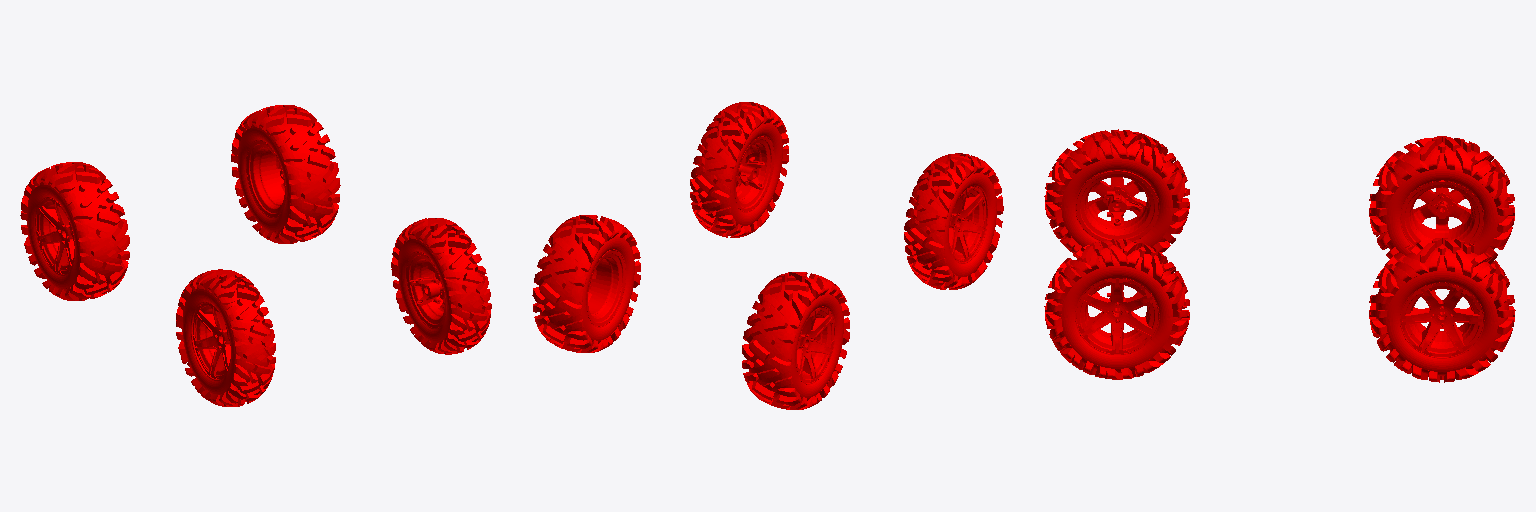
URDF robot description (basic_frame_pig):
<?xml version="1.0"?>
<robot name="basic_frame_pig">

    <!-- Base Link / Tube Chasis-->
    <link name="base_link">
        <inertial>
            <origin rpy="0 0 0" xyz="-0.005632841369081588 0.2917022138225285 -0.004107516953549188"/>
            <mass value="61.719091558990335"/>
            <inertia ixx="23.451972" ixy="-0.091403" ixz="-0.110297" iyy="6.432858" iyz="1.415813" izz="26.484945"/>
        </inertial>
        <visual>
            <origin rpy="0 0 0" xyz="0 0 0"/>
            <geometry>
                <mesh filename="package://little_pig_atv/urdf/bin_stl/base_link_m-binary.stl"/>
            </geometry>
            <material name="silver">
                <color rgba="1 0 0 1"/>
            </material>
        </visual>
        <collision>
            <origin rpy="0 0 0" xyz="0 0 0"/>
            <geometry>
                <mesh filename="package://little_pig_atv/urdf/bin_stl/base_link_m-binary.stl"/>
            </geometry>
        </collision>
    </link>

    <!-- Left Steering Knuckle -->
    <link name="left_steering_knuckle">
        <inertial>
            <origin rpy="0 0 0" xyz="0.04626374762862234 0.005213062909487198 0.06475119586205944"/>
            <mass value="2.3221244569381487"/>
            <inertia ixx="0.004736" ixy="0.000171" ixz="6.1e-05" iyy="0.003675" iyz="6e-06" izz="0.003101"/>
        </inertial>
        <visual>
            <origin rpy="0 0 0" xyz="-0.447222 0.622377 0.163596"/>
            <geometry>
                <mesh filename="package://little_pig_atv/urdf/bin_stl/left_steering_knuckle_m-binary.stl"/>
            </geometry>
            <material name="silver">
                <color rgba="1 0 0 1"/>
            </material>
        </visual>
        <collision>
            <origin rpy="0 0 0" xyz="-0.447222 0.622377 0.163596"/>
            <geometry>
                <mesh filename="package://little_pig_atv/urdf/bin_stl/left_steering_knuckle_m-binary.stl"/>
            </geometry>
        </collision>
    </link>

    <!-- Base Link - Left Steering Knuckle Joint -->
    <joint name="base_link_to_left_steering_knuckle" type="revolute">
        <origin rpy="0 0 0" xyz="0.447222 -0.622377 -0.163596"/>
        <parent link="base_link"/>
        <child link="left_steering_knuckle"/>
        <axis xyz="-0.000375 -0.0 0.009993"/>
        <limit lower="-0.5" upper="0.5" effort="1.0" velocity="1.0"/>
    </joint>

    <!-- Base Link - Left Steering Knuckle Transmission -->
    <transmission name="base_link_to_left_steering_knuckle_transmission">
        <type>transmission_interface/SimpleTransmission</type>
        <joint name="base_link_to_left_steering_knuckle">
            <hardwareInterface>PositionJointInterface</hardwareInterface>
        </joint>
        <actuator name="base_link_to_left_steering_knuckle_actr">
            <hardwareInterface>PositionJointInterface</hardwareInterface>
            <mechanicalReduction>1</mechanicalReduction>
        </actuator>
    </transmission>

    <!-- Front Left Wheel Hub -->
    <link name="front_left_wheel_hub">
        <inertial>
            <origin rpy="0 0 0" xyz="0.027160820485626624 1.743857634961543e-07 0.0010195880848413164"/>
            <mass value="1.118795265201953"/>
            <inertia ixx="0.001287" ixy="-0.0" ixz="1.1e-05" iyy="0.000986" iyz="0.0" izz="0.000987"/>
        </inertial>
        <visual>
            <origin rpy="0 0 0" xyz="-0.526843 0.622377 0.097593"/>
            <geometry>
                <mesh filename="package://little_pig_atv/urdf/bin_stl/front_left_wheel_hub_m-binary.stl"/>
            </geometry>
            <material name="silver">
                <color rgba="1 0 0 1"/>
            </material>
        </visual>
        <collision>
            <origin rpy="0 0 0" xyz="-0.526843 0.622377 0.097593"/>
            <geometry>
                <mesh filename="package://little_pig_atv/urdf/bin_stl/front_left_wheel_hub_m-binary.stl"/>
            </geometry>
        </collision>
    </link>

    <!-- Front Left Steering Knuckle to Front Left Wheel Hub Joint -->
    <joint name="front_left_steering_knuckle_front_left_wheel_hub" type="continuous">
        <origin rpy="0 0 0" xyz="0.079621 0.0 0.066003"/>
        <parent link="left_steering_knuckle"/>
        <child link="front_left_wheel_hub"/>
        <axis xyz="-0.009993 -0.0 -0.000375"/>
    </joint>

    <!-- Front Left Steering Knuckle to Front Left Wheel Hub Transmission -->
    <transmission name="front_left_steering_knuckle_front_left_wheel_hub_transmission">
        <type>transmission_interface/SimpleTransmission</type>
        <joint name="front_left_steering_knuckle_front_left_wheel_hub">
            <hardwareInterface>EffortJointInterface</hardwareInterface>
        </joint>
        <actuator name="front_left_steering_knuckle_front_left_wheel_hub_actr">
            <hardwareInterface>EffortJointInterface</hardwareInterface>
            <mechanicalReduction>1</mechanicalReduction>
        </actuator>
    </transmission>

    <!-- Front Left Wheel -->
    <link name="front_left_wheel">
        <inertial>
            <origin rpy="0 0 0" xyz="0.0011488911139707625 2.510309293879409e-06 3.8079092190917985e-05"/>
            <mass value="77.98350831979032"/>
            <inertia ixx="4.69787" ixy="-9e-06" ixz="0.077554" iyy="2.63247" iyz="-3e-05" izz="2.635399"/>
        </inertial>
        <visual>
            <origin rpy="0 0 0" xyz="-0.563887 0.622377 0.096202"/>
            <geometry>
                <mesh filename="package://little_pig_atv/urdf/bin_stl/front_left_wheel_m-binary.stl"/>
            </geometry>
            <material name="silver">
                <color rgba="1 0 0 1"/>
            </material>
        </visual>
        <collision>
            <origin rpy="0 0 0" xyz="-0.563887 0.622377 0.096202"/>
            <geometry>
                <mesh filename="package://little_pig_atv/urdf/bin_stl/front_left_wheel_m-binary.stl"/>
            </geometry>
        </collision>
    </link>

    <!-- Front Left Wheel Hub to Front Left Wheel Joint-->
    <joint name="front_left_wheel_hub_front_left_wheel" type="fixed">
        <origin rpy="0 0 0" xyz="0.037044 0.0 0.001391"/>
        <parent link="front_left_wheel_hub"/>
        <child link="front_left_wheel"/>
    </joint>

    <!-- Front Left Wheel Hub to Front Left Wheel Joint-->
    <transmission name="front_left_wheel_hub_front_left_wheel_transmission">
        <type>transmission_interface/SimpleTransmission</type>
        <joint name="front_left_wheel_hub_front_left_wheel">
            <hardwareInterface>PositionJointInterface</hardwareInterface>
        </joint>
        <actuator name="front_left_wheel_hub_front_left_wheel_actr">
            <hardwareInterface>PositionJointInterface</hardwareInterface>
            <mechanicalReduction>1</mechanicalReduction>
        </actuator>
    </transmission>

    <!-- Right Steering Knuckle -->
    <link name="right_steering_knuckle">
        <inertial>
            <origin rpy="0 0 0" xyz="-0.04602703865184993 0.00521305901325253 0.06491864444227143"/>
            <mass value="2.322126893861874"/>
            <inertia ixx="0.004736" ixy="-0.000171" ixz="-6.7e-05" iyy="0.003675" iyz="7e-06" izz="0.003102"/>
        </inertial>
        <visual>
            <origin rpy="0 0 0" xyz="0.457954 0.622377 0.162568"/>
            <geometry>
                <mesh filename="package://little_pig_atv/urdf/bin_stl/right_steering_knuckle_m-binary.stl"/>
            </geometry>
            <material name="silver">
                <color rgba="1 0 0 1"/>
            </material>
        </visual>
        <collision>
            <origin rpy="0 0 0" xyz="0.457954 0.622377 0.162568"/>
            <geometry>
                <mesh filename="package://little_pig_atv/urdf/bin_stl/right_steering_knuckle_m-binary.stl"/>
            </geometry>
        </collision>
    </link>

    <!-- Base Link - Right Steering Knuckle Joint -->
    <joint name="base_link_to_right_steering_knuckle" type="revolute">
        <origin rpy="0 0 0" xyz="-0.457954 -0.622377 -0.162568"/>
        <parent link="base_link"/>
        <child link="right_steering_knuckle"/>
        <axis xyz="0.000412 -0.0 0.009992"/>
        <limit lower="-0.5" upper="0.5" effort="1.0" velocity="1.0"/>
    </joint>

    <!-- Base Link - Right Steering Knuckle Transmission -->
    <transmission name="base_link_to_right_steering_knuckle_transmission">
        <type>transmission_interface/SimpleTransmission</type>
        <joint name="base_link_to_right_steering_knuckle">
            <hardwareInterface>PositionJointInterface</hardwareInterface>
        </joint>
        <actuator name="base_link_to_right_steering_knuckle_actr">
            <hardwareInterface>PositionJointInterface</hardwareInterface>
            <mechanicalReduction>1</mechanicalReduction>
        </actuator>
    </transmission>

    <!-- Front Right Wheel Hub -->
    <link name="front_right_wheel_hub">
        <inertial>
            <origin rpy="0 0 0" xyz="-0.03807755669639501 2.229040352297318e-07 0.0015684173363760129"/>
            <mass value="1.1187951842239643"/>
            <inertia ixx="0.001286" ixy="0.0" ixz="-1.2e-05" iyy="0.000986" iyz="-0.0" izz="0.000987"/>
        </inertial>
        <visual>
            <origin rpy="0 0 0" xyz="0.526428 0.622377 0.096724"/>
            <geometry>
                <mesh filename="package://little_pig_atv/urdf/bin_stl/front_right_wheel_hub_m-binary.stl"/>
            </geometry>
            <material name="silver">
                <color rgba="1 0 0 1"/>
            </material>
        </visual>
        <collision>
            <origin rpy="0 0 0" xyz="0.526428 0.622377 0.096724"/>
            <geometry>
                <mesh filename="package://little_pig_atv/urdf/bin_stl/front_right_wheel_hub_m-binary.stl"/>
            </geometry>
        </collision>
    </link>

    <!-- Right Steering Knuckle - Front Right Wheel Hub Joint -->
    <joint name="right_steering_knuckle_front_right_hub" type="continuous">
        <origin rpy="0 0 0" xyz="-0.068474 0.0 0.065844"/>
        <parent link="right_steering_knuckle"/>
        <child link="front_right_wheel_hub"/>
        <axis xyz="0.009992 0.0 -0.000412"/>
    </joint>

    <!-- Right Steering Knuckle - Front Right Wheel Hub Transmission -->
    <transmission name="right_steering_knuckle_front_right_hub_transmission">
        <type>transmission_interface/SimpleTransmission</type>
        <joint name="right_steering_knuckle_front_right_hub">
            <hardwareInterface>PositionJointInterface</hardwareInterface>
        </joint>
        <actuator name="right_steering_knuckle_front_right_hub_actr">
            <hardwareInterface>PositionJointInterface</hardwareInterface>
            <mechanicalReduction>1</mechanicalReduction>
        </actuator>
    </transmission>

    <!-- Front Right Wheel -->
    <link name="front_right_wheel">
        <inertial>
            <origin rpy="0 0 0" xyz="-0.001292276290758898 2.291232137796584e-06 5.7530997634336334e-05"/>
            <mass value="77.98348447888712"/>
            <inertia ixx="4.697279" ixy="1.1e-05" ixz="-0.085043" iyy="2.632396" iyz="2.9e-05" izz="2.635914"/>
        </inertial>
        <visual>
            <origin rpy="0 0 0" xyz="0.574387 0.622377 0.094748"/>
            <geometry>
                <mesh filename="package://little_pig_atv/urdf/bin_stl/front_right_wheel_m-binary.stl"/>
            </geometry>
            <material name="silver">
                <color rgba="1 0 0 1"/>
            </material>
        </visual>
        <collision>
            <origin rpy="0 0 0" xyz="0.574387 0.622377 0.094748"/>
            <geometry>
                <mesh filename="package://little_pig_atv/urdf/bin_stl/front_right_wheel_m-binary.stl"/>
            </geometry>
        </collision>
    </link>

    <!-- Front Right Wheel Hub to Front Right Wheel Joint -->
    <joint name="front_right_wheel_hub_front_right_wheel" type="fixed">
        <origin rpy="0 0 0" xyz="-0.047959 0.0 0.001976"/>
        <parent link="front_right_wheel_hub"/>
        <child link="front_right_wheel"/>
    </joint>

    <!-- Front Right Wheel Hub to Front Right Wheel Transmission -->
    <transmission name="front_right_wheel_hub_front_right_wheel_transmission">
        <type>transmission_interface/SimpleTransmission</type>
        <joint name="front_right_wheel_hub_front_right_wheel">
            <hardwareInterface>PositionJointInterface</hardwareInterface>
        </joint>
        <actuator name="front_right_wheel_hub_front_right_wheel_actr">
            <hardwareInterface>PositionJointInterface</hardwareInterface>
            <mechanicalReduction>1</mechanicalReduction>
        </actuator>
    </transmission>

    <!-- Rear Left Wheel Hub -->
    <link name="rear_left_hub">
        <inertial>
            <origin rpy="0 0 0" xyz="0.027291669153874487 1.9676759810405287e-07 -0.0001474093893083922"/>
            <mass value="1.1187963911881649"/>
            <inertia ixx="0.001287" ixy="0.0" ixz="-2e-06" iyy="0.000986" iyz="0.0" izz="0.000986"/>
        </inertial>
        <visual>
            <origin rpy="0 0 0" xyz="-0.547664 -0.788123 0.102833"/>
            <geometry>
                <mesh filename="package://little_pig_atv/urdf/bin_stl/rear_left_hub_m-binary.stl"/>
            </geometry>
            <material name="silver">
                <color rgba="1 0 0 1"/>
            </material>
        </visual>
        <collision>
            <origin rpy="0 0 0" xyz="-0.547664 -0.788123 0.102833"/>
            <geometry>
                <mesh filename="package://little_pig_atv/urdf/bin_stl/rear_left_hub_m-binary.stl"/>
            </geometry>
        </collision>
    </link>

    <!-- Base Link to Rear Left Wheel Hub Joint -->
    <joint name="base_link_rear_left_wheel_hub" type="continuous">
        <origin rpy="0 0 0" xyz="0.547664 0.788123 -0.102833"/>
        <parent link="base_link"/>
        <child link="rear_left_hub"/>
        <axis xyz="0.01 -0.0 -5.4e-05"/>
    </joint>

    <!-- Base Link to Rear Left Wheel Hub Transmission -->
    <transmission name="base_link_rear_left_wheel_hub_transmission">
        <type>transmission_interface/SimpleTransmission</type>
        <joint name="base_link_rear_left_wheel_hub">
            <hardwareInterface>PositionJointInterface</hardwareInterface>
        </joint>
        <actuator name="base_link_rear_left_wheel_hub_actr">
            <hardwareInterface>PositionJointInterface</hardwareInterface>
            <mechanicalReduction>1</mechanicalReduction>
        </actuator>
    </transmission>

    <!-- Rear Left Wheel -->
    <link name="rear_left_wheel">
        <inertial>
            <origin rpy="0 0 0" xyz="-0.024998897547842458 3.7973710019789664e-06 0.0001368244068725294"/>
            <mass value="88.28370410127773"/>
            <inertia ixx="5.402188" ixy="-3e-05" ixz="-0.011694" iyy="3.237533" iyz="2.6e-05" izz="3.237567"/>
        </inertial>
        <visual>
            <origin rpy="0 0 0" xyz="-0.584846 -0.788123 0.103034"/>
            <geometry>
                <mesh filename="package://little_pig_atv/urdf/bin_stl/rear_left_wheel_m-binary.stl"/>
            </geometry>
            <material name="silver">
                <color rgba="1 0 0 1"/>
            </material>
        </visual>
        <collision>
            <origin rpy="0 0 0" xyz="-0.584846 -0.788123 0.103034"/>
            <geometry>
                <mesh filename="package://little_pig_atv/urdf/bin_stl/rear_left_wheel_m-binary.stl"/>
            </geometry>
        </collision>
    </link>

    <!-- Rear Left Wheel Hub to Rear Left Wheel Joint -->
    <joint name="rear_left_wheel_hub_rear_left_wheel" type="fixed">
        <origin rpy="0 0 0" xyz="0.037182 0.0 -0.000201"/>
        <parent link="rear_left_hub"/>
        <child link="rear_left_wheel"/>
    </joint>

    <!-- Rear Left Wheel Hub to Rear Left Wheel Transmission -->
    <transmission name="rear_left_wheel_hub_rear_left_wheel_transmission">
        <type>transmission_interface/SimpleTransmission</type>
        <joint name="rear_left_wheel_hub_rear_left_wheel">
            <hardwareInterface>PositionJointInterface</hardwareInterface>
        </joint>
        <actuator name="rear_left_wheel_hub_rear_left_wheel_actr">
            <hardwareInterface>PositionJointInterface</hardwareInterface>
            <mechanicalReduction>1</mechanicalReduction>
        </actuator>
    </transmission>

    <!-- Rear Right Wheel Hub -->
    <link name="rear_right_hub">
        <inertial>
            <origin rpy="0 0 0" xyz="-0.027291096145922622 2.0521091637082378e-07 3.286601153970614e-05"/>
            <mass value="1.1187959967121328"/>
            <inertia ixx="0.001287" ixy="-0.0" ixz="-0.0" iyy="0.000986" iyz="-0.0" izz="0.000986"/>
        </inertial>
        <visual>
            <origin rpy="0 0 0" xyz="0.547263 -0.788123 0.13233"/>
            <geometry>
                <mesh filename="package://little_pig_atv/urdf/bin_stl/rear_right_hub_m-binary.stl"/>
            </geometry>
            <material name="silver">
                <color rgba="1 0 0 1"/>
            </material>
        </visual>
        <collision>
            <origin rpy="0 0 0" xyz="0.547263 -0.788123 0.13233"/>
            <geometry>
                <mesh filename="package://little_pig_atv/urdf/bin_stl/rear_right_hub_m-binary.stl"/>
            </geometry>
        </collision>
    </link>

    <!-- Base Link to Rear Right Wheel Hub Joint -->
    <joint name="base_link_rear_right_wheel_hub" type="continuous">
        <origin rpy="0 0 0" xyz="-0.547263 0.788123 -0.13233"/>
        <parent link="base_link"/>
        <child link="rear_right_hub"/>
        <axis xyz="-0.01 0.0 1.2e-05"/>
    </joint>

    <!-- Base Link to Rear Right Wheel Hub Transmission -->
    <transmission name="base_link_rear_right_wheel_hub_transmission">
        <type>transmission_interface/SimpleTransmission</type>
        <joint name="base_link_rear_right_wheel_hub">
            <hardwareInterface>PositionJointInterface</hardwareInterface>
        </joint>
        <actuator name="base_link_rear_right_wheel_hub_actr">
            <hardwareInterface>PositionJointInterface</hardwareInterface>
            <mechanicalReduction>1</mechanicalReduction>
        </actuator>
    </transmission>

    <!-- Rear Right Wheel -->
    <link name="rear_right_wheel">
        <inertial>
            <origin rpy="0 0 0" xyz="0.022815265177914767 2.0103108817615123e-06 -2.4107454217187074e-05"/>
            <mass value="88.28370095669479"/>
            <inertia ixx="5.402246" ixy="1.2e-05" ixz="-0.002585" iyy="3.234966" iyz="2.6e-05" izz="3.235"/>
        </inertial>
        <visual>
            <origin rpy="0 0 0" xyz="0.584444 -0.788123 0.132285"/>
            <geometry>
                <mesh filename="package://little_pig_atv/urdf/bin_stl/rear_right_wheel_m-binary.stl"/>
            </geometry>
            <material name="silver">
                <color rgba="1 0 0 1"/>
            </material>
        </visual>
        <collision>
            <origin rpy="0 0 0" xyz="0.584444 -0.788123 0.132285"/>
            <geometry>
                <mesh filename="package://little_pig_atv/urdf/bin_stl/rear_right_wheel_m-binary.stl"/>
            </geometry>
        </collision>
    </link>

    <!-- Rear Right Wheel Hub to Rear Right Wheel Joint -->
    <joint name="rear_right_wheel_hub_rear_right_wheel" type="fixed">
        <origin rpy="0 0 0" xyz="-0.037181 0.0 4.5e-05"/>
        <parent link="rear_right_hub"/>
        <child link="rear_right_wheel"/>
    </joint>

    <!-- Rear Right Wheel Hub to Rear Right Wheel Trainsmission -->
    <transmission name="rear_right_wheel_hub_rear_right_wheel_transmission">
        <type>transmission_interface/SimpleTransmission</type>
        <joint name="rear_right_wheel_hub_rear_right_wheel">
            <hardwareInterface>PositionJointInterface</hardwareInterface>
        </joint>
        <actuator name="rear_right_wheel_hub_rear_right_wheel_actr">
            <hardwareInterface>PositionJointInterface</hardwareInterface>
            <mechanicalReduction>1</mechanicalReduction>
        </actuator>
    </transmission>

    <!-- Gazebo plugin for ROS Control -->
    <gazebo>
        <plugin name="gazebo_ros_control" filename="libgazebo_ros_control.so">
            <robotNamespace>/</robotNamespace>
        </plugin>
    </gazebo>
</robot>

--- Facts derived from the render (not from the file) ---
The picture shows the robot from 3 angles, left to right: view 1: azimuth 30°, elevation 25°; view 2: azimuth 150°, elevation 25°; view 3: azimuth 270°, elevation 25°; orthographic projection.
Model basic_frame_pig with 11 links and 10 joints (2 revolute, 4 continuous, 4 fixed), rooted at base_link, posed every joint at zero.
Links seen in each view (by area): view 1: rear_left_wheel, rear_right_wheel, front_right_wheel, front_left_wheel, left_steering_knuckle; view 2: rear_left_wheel, rear_right_wheel, front_right_wheel, front_left_wheel; view 3: rear_left_wheel, front_left_wheel, front_right_wheel, rear_right_wheel, right_steering_knuckle.
Boxes of the visible links, x1=… form: rear_left_wheel: x1=231, y1=105, x2=340, y2=243; rear_right_wheel: x1=20, y1=162, x2=129, y2=300; front_right_wheel: x1=176, y1=269, x2=275, y2=406; front_left_wheel: x1=391, y1=218, x2=491, y2=354; left_steering_knuckle: x1=410, y1=277, x2=440, y2=305; rear_left_wheel: x1=532, y1=215, x2=640, y2=352; rear_right_wheel: x1=742, y1=272, x2=849, y2=409; front_right_wheel: x1=904, y1=153, x2=1003, y2=289; front_left_wheel: x1=690, y1=102, x2=788, y2=237; rear_left_wheel: x1=1369, y1=238, x2=1515, y2=382; front_left_wheel: x1=1044, y1=239, x2=1189, y2=379; front_right_wheel: x1=1044, y1=129, x2=1189, y2=253; rear_right_wheel: x1=1369, y1=136, x2=1514, y2=259; right_steering_knuckle: x1=1107, y1=191, x2=1142, y2=225.
Bounding box of the posed robot: 1.38 × 2.05 × 0.6724 m (x, y, z).
Meshes: 11 distinct files referenced, 10 mesh visuals loaded (10 binary STL); not drawn: 1 (reference not matched to a file when rendering).